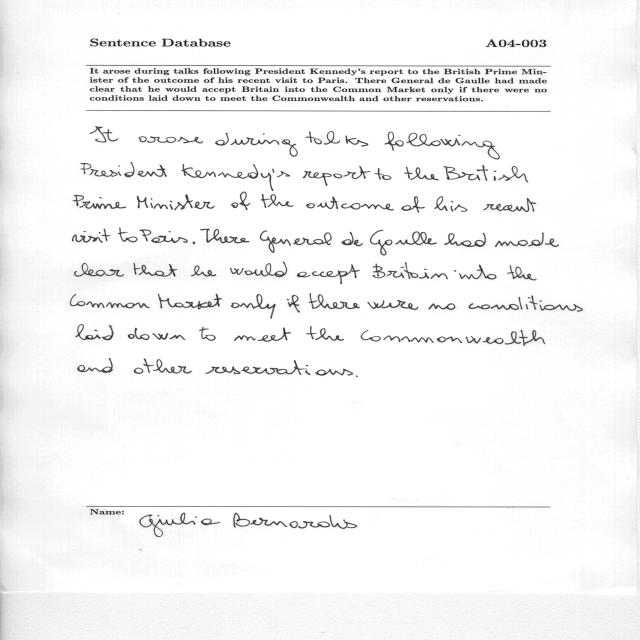word: (385, 132, 500, 160), (361, 330, 545, 346), (182, 164, 290, 191), (206, 360, 353, 376), (215, 133, 298, 157), (469, 295, 583, 312), (370, 230, 437, 256), (260, 230, 332, 253), (444, 165, 529, 182), (303, 166, 371, 186), (81, 163, 167, 178), (373, 262, 448, 279), (297, 264, 360, 284), (137, 195, 214, 211), (306, 197, 394, 211), (231, 294, 276, 319), (70, 294, 150, 308), (306, 131, 369, 147), (158, 294, 222, 309), (134, 358, 192, 374), (495, 233, 559, 247), (230, 262, 287, 277), (234, 327, 291, 342), (309, 293, 360, 309), (73, 195, 126, 209), (484, 198, 537, 212), (201, 229, 250, 244), (75, 263, 124, 277), (128, 328, 185, 340), (454, 265, 497, 280), (140, 230, 188, 243), (134, 263, 178, 277), (76, 325, 113, 341), (444, 233, 486, 247), (306, 326, 344, 341), (73, 229, 111, 243), (435, 196, 468, 212), (78, 358, 113, 373), (368, 300, 419, 310), (261, 194, 294, 208), (404, 167, 439, 180), (90, 127, 118, 143), (139, 137, 203, 144), (508, 266, 537, 281), (401, 196, 425, 213), (231, 192, 250, 210), (342, 232, 363, 246), (118, 228, 138, 242), (191, 266, 216, 277), (199, 327, 216, 341), (287, 295, 300, 312), (375, 168, 392, 180), (429, 303, 456, 310), (193, 242, 195, 244), (356, 375, 358, 377)
